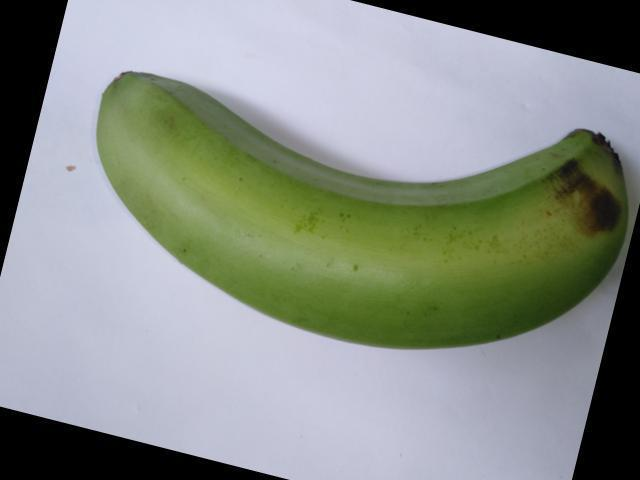freshunripe: (73, 46, 639, 364)
